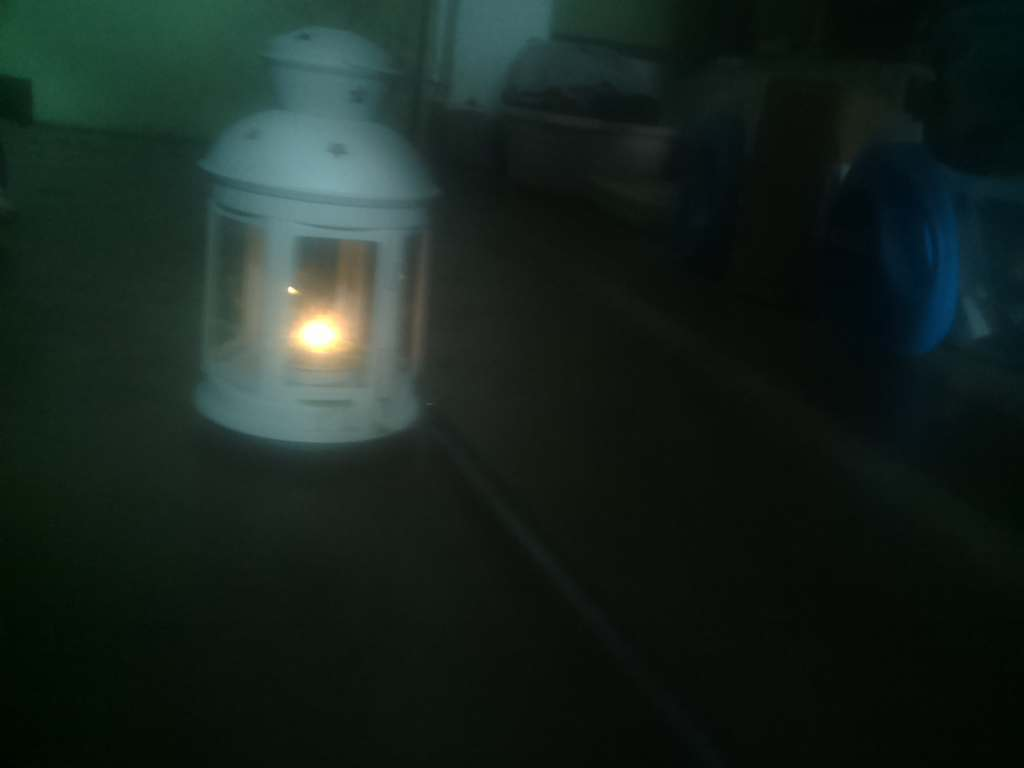fire: (275, 289, 370, 373)
